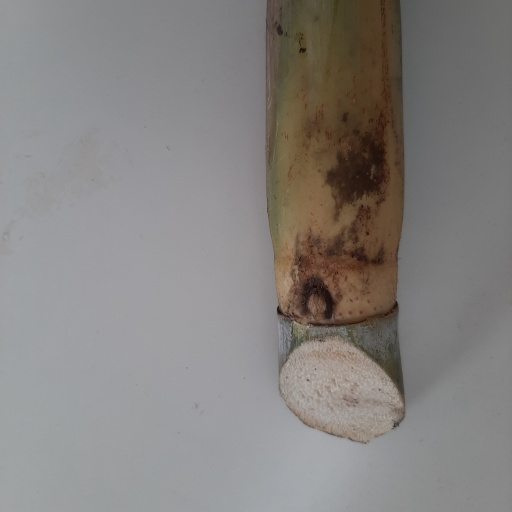Bud: (301, 283, 334, 322)
